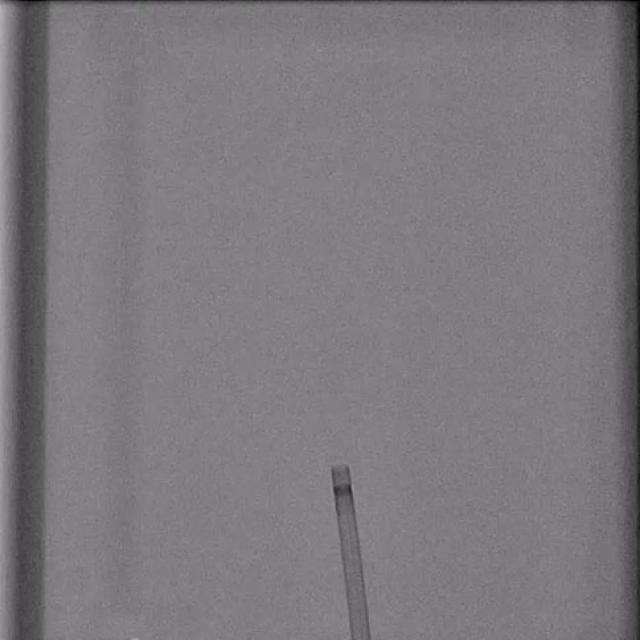entry: (350, 635, 371, 640)
marker: (332, 482, 353, 499)
tip: (332, 464, 349, 471)
